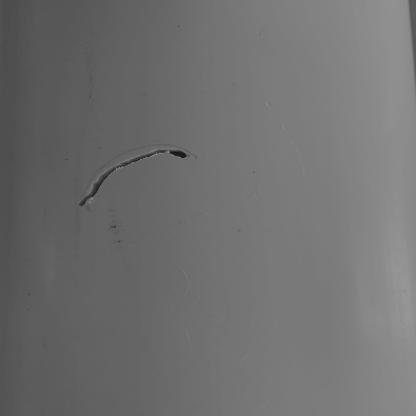fengxi: (77, 146, 191, 207)
